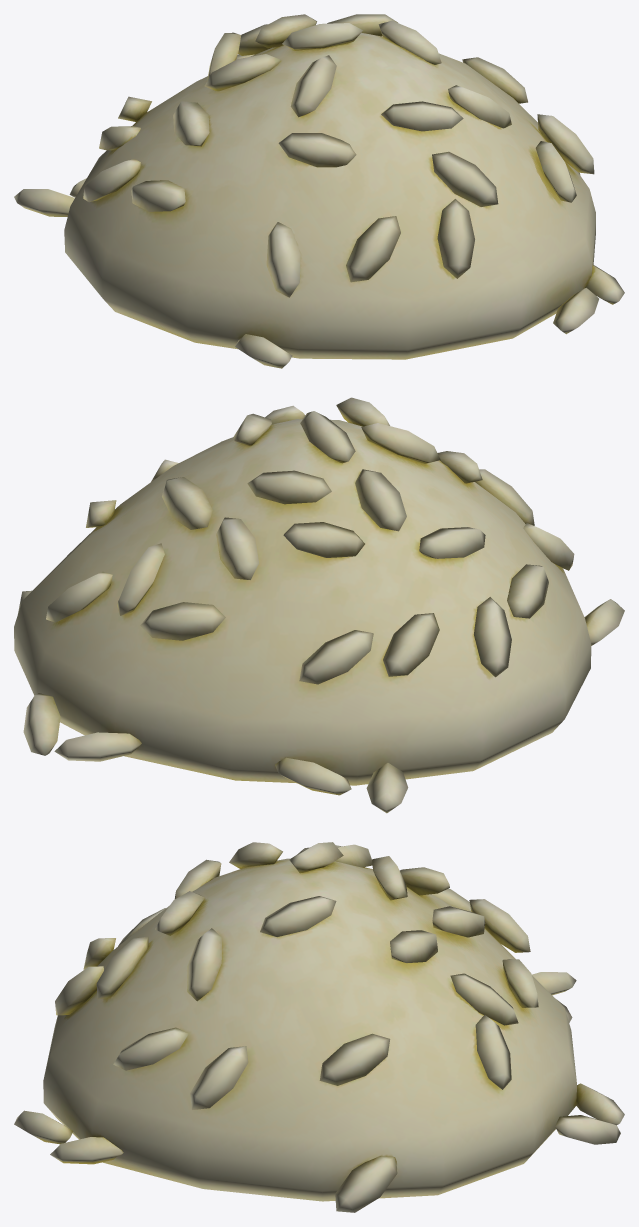
The model's file is m_ingredients_rice_01.fbx.
The picture shows the model from 3 angles, top to bottom: view 1: azimuth 30°, elevation 25°; view 2: azimuth 150°, elevation 25°; view 3: azimuth 270°, elevation 25°; orthographic projection. The views are drawn at different scales.
Parts seen in each view (by area): view 1: m_ingredients_rice_01; view 2: m_ingredients_rice_01; view 3: m_ingredients_rice_01.
Part boxes in pixels (box(x1,y1,x2,y2)): m_ingredients_rice_01: box(14, 14, 624, 368); m_ingredients_rice_01: box(14, 397, 624, 813); m_ingredients_rice_01: box(14, 842, 624, 1212).
Size of the model in its own units: 90.82 by 42.2 by 95.95.
1 material, 1 textured.
